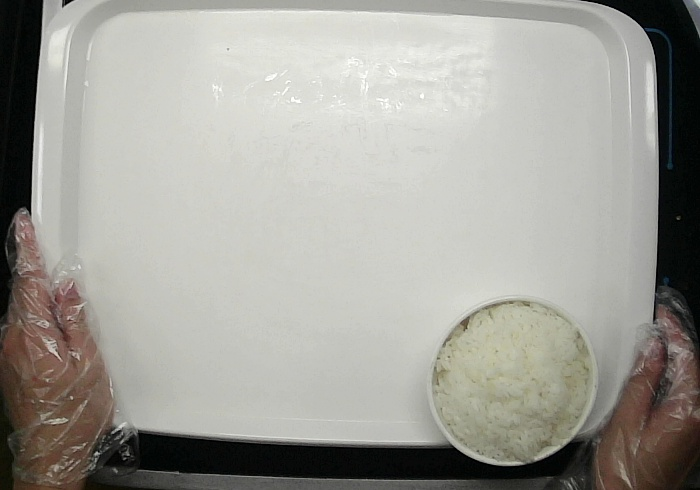HZYJPL-Fan_Wan: (427, 293, 601, 467)
